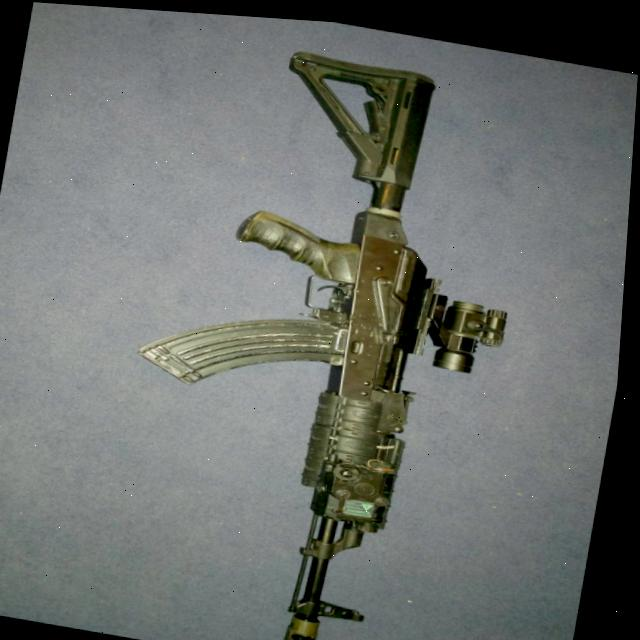firearm: (92, 23, 551, 640)
